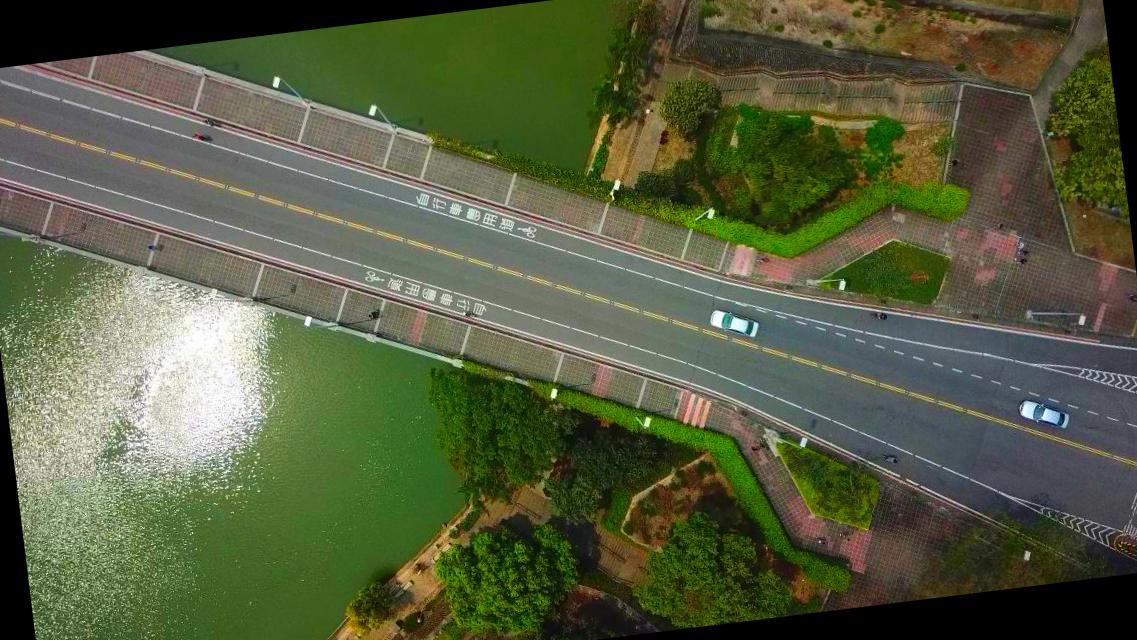vehicle: (1015, 394, 1072, 435), (707, 303, 762, 343)
